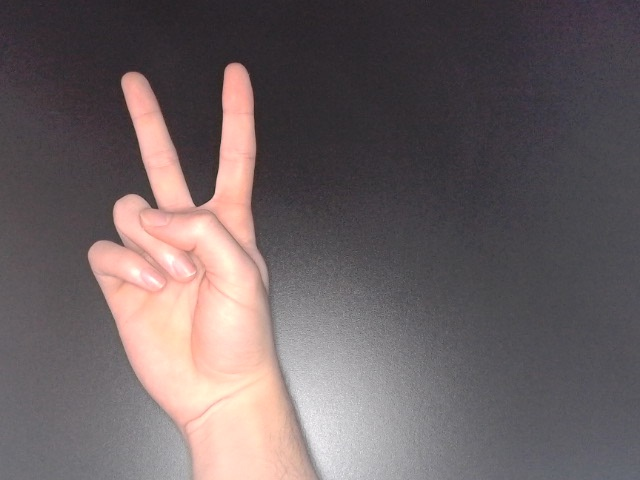v: (77, 57, 286, 441)
